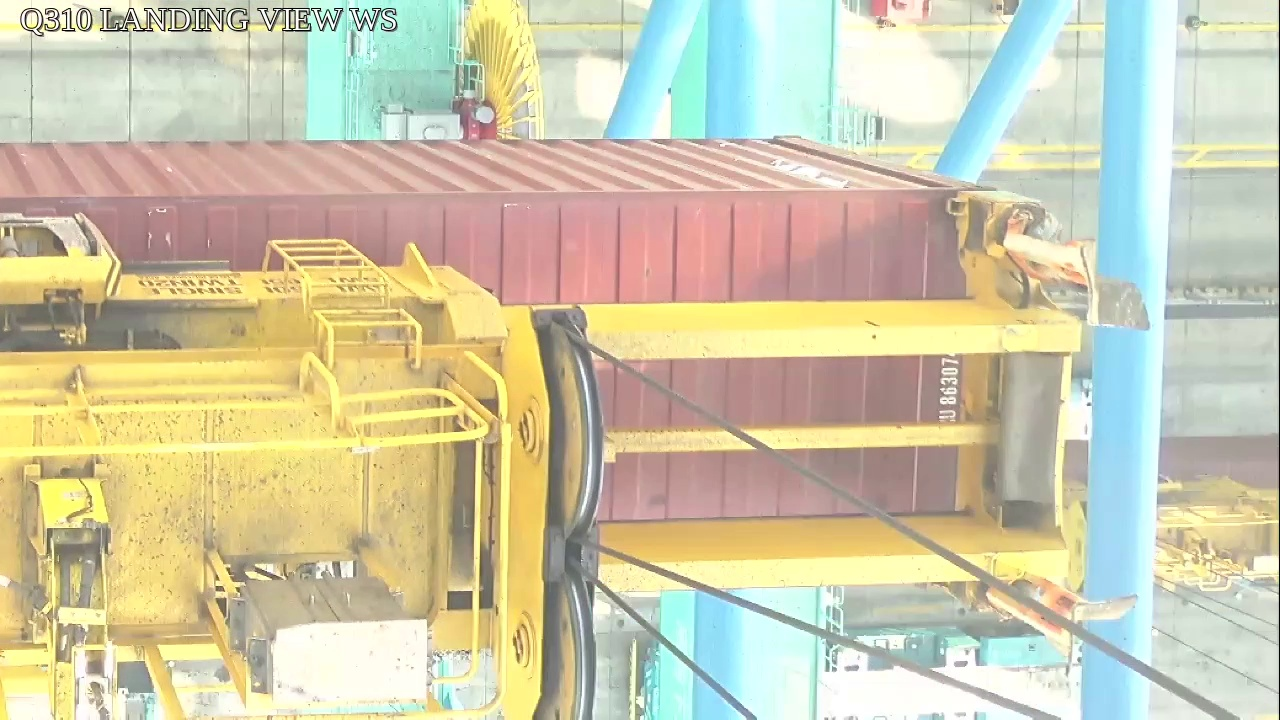right: (498, 304, 602, 720)
